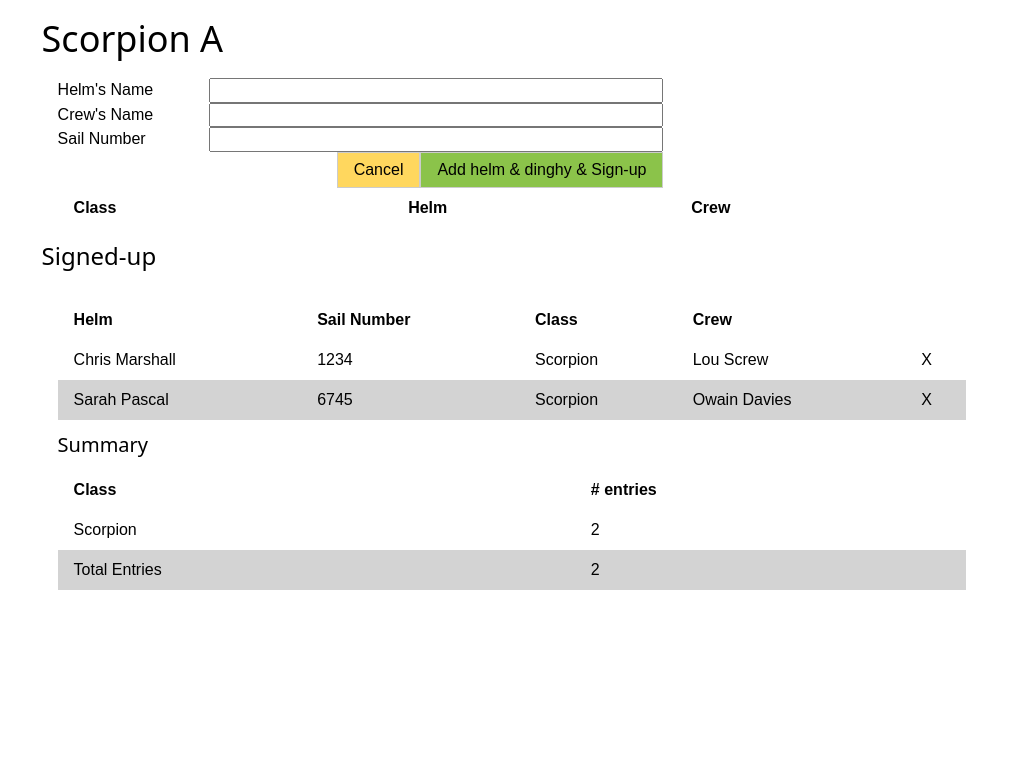
Test: when an entry is updated › clears selected entry
Click the text "Chris Marshall". click: (125, 360)
box: x1=58 y1=340 x2=309 y2=380
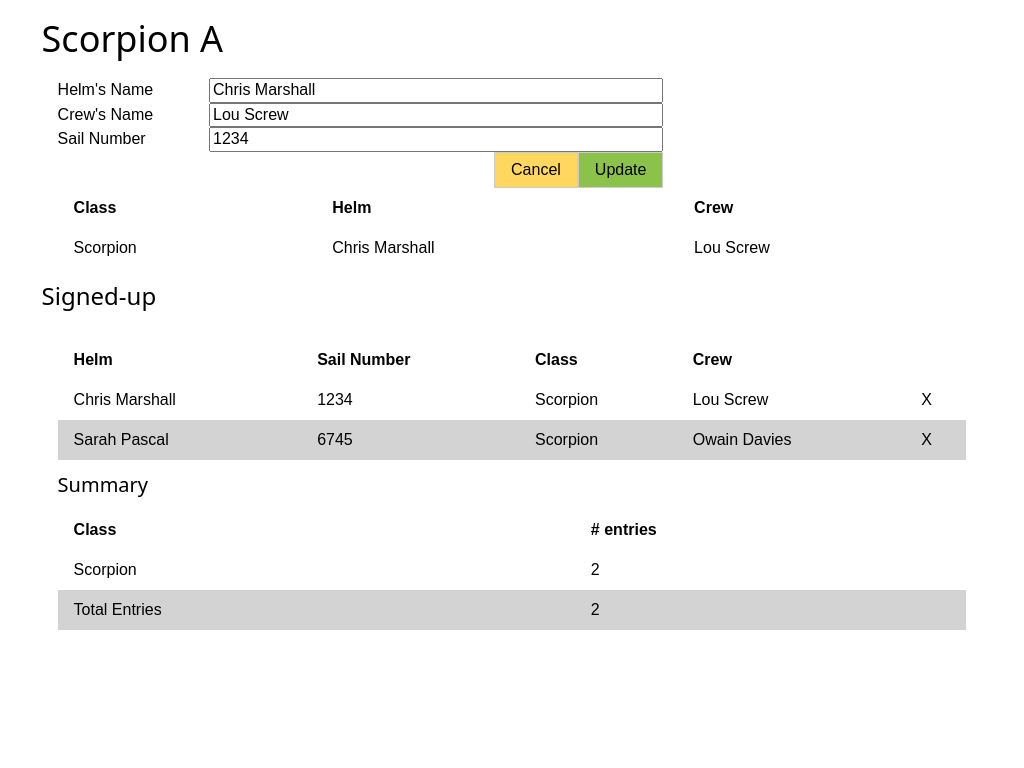
Click the button "Update". click: (621, 170)
box: x1=578 y1=152 x2=664 y2=188
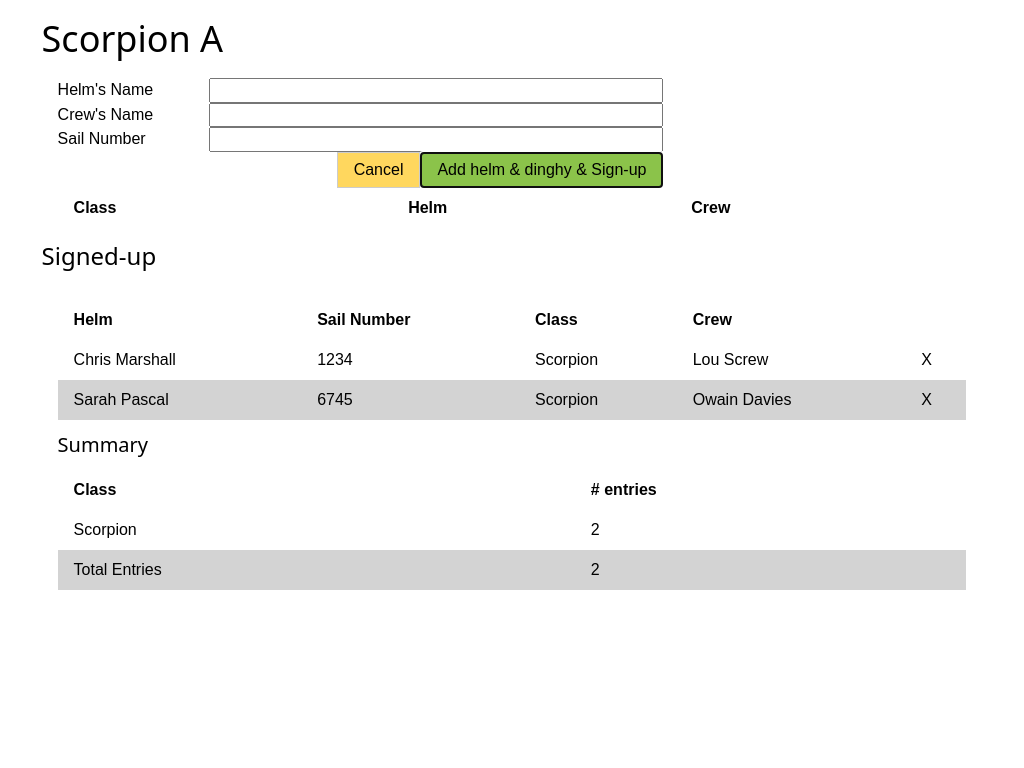
Check: the button "Update" is gone
